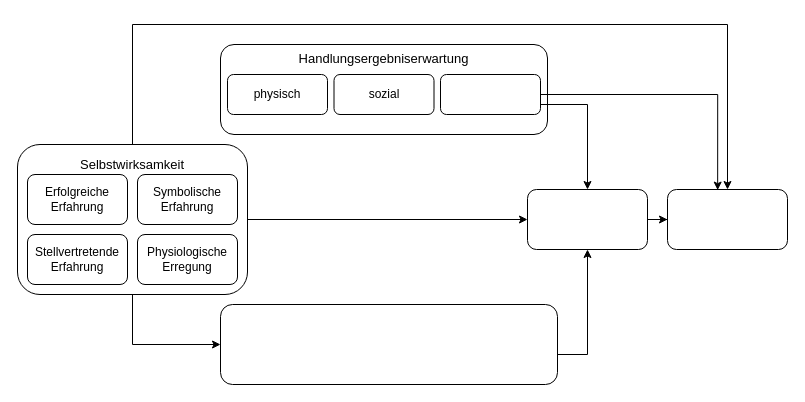
This 805x402 diagram has some shape labels left out. The centre of each missing label's shape, as x and y in pixels:
Gesundheits-verhalten: (x=727, y=219)
selbstwert: (x=490, y=94)
Sozio-Kulturelle Faktoren - Hemmend - Förderlich: (x=389, y=344)
Ziele/ Intentionen: (x=587, y=219)
